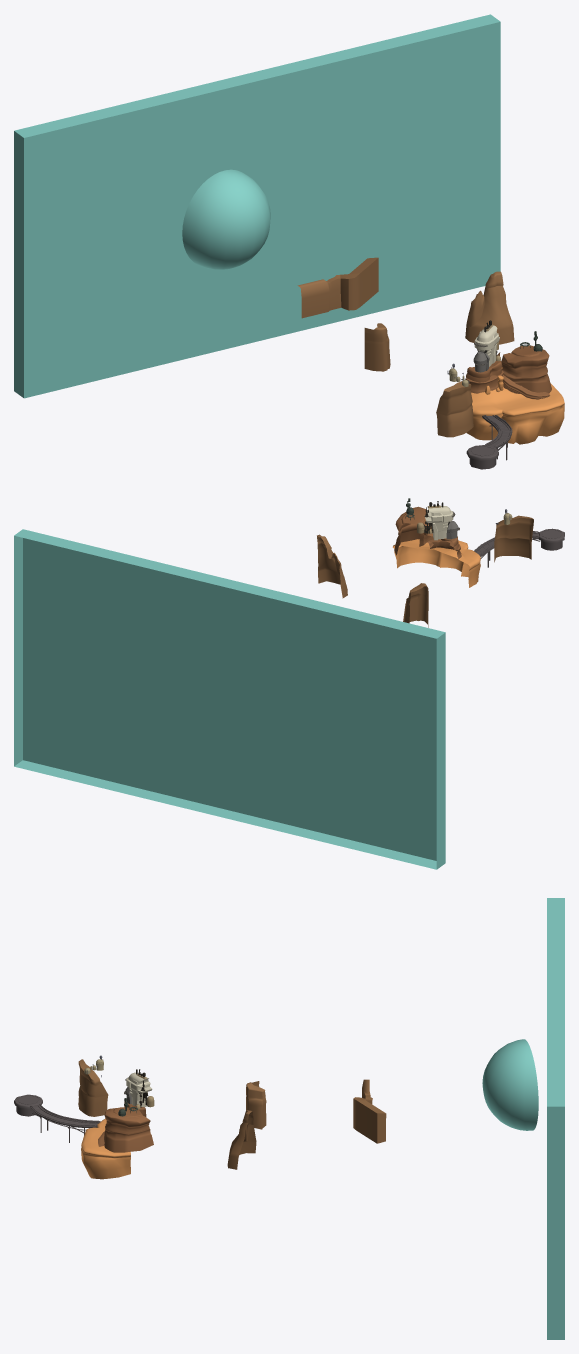
File: MidGround.fbx
The picture shows the model from 3 angles, top to bottom: view 1: azimuth 30°, elevation 25°; view 2: azimuth 150°, elevation 25°; view 3: azimuth 270°, elevation 25°; orthographic projection. The views are drawn at different scales.
Parts seen in each view (by area): view 1: Background, MGBase, FarMtnRidge, RMtnBack, RghtRockCollumn, LMtnMid, BackLMnt, RailPlatform, MainBuilding; view 2: Background, MGBase, LMtnMid, RMtnBack, BackLMnt, RghtRockCollumn, MainBuilding, RailPlatform; view 3: Background, RghtRockCollumn, MGBase, FarMtnRidge, LMtnMid, RMtnBack, BackLMnt, MainBuilding.
Part boxes in pixels (x1,y1,x2,y2): Background: (14,14,500,398); MGBase: (466,383,564,444); FarMtnRidge: (297,257,378,318); RMtnBack: (465,271,514,344); RghtRockCollumn: (501,345,551,393); LMtnMid: (436,381,473,437); BackLMnt: (364,323,390,371); RailPlatform: (466,445,498,469); MainBuilding: (474,325,499,366); Background: (14,529,445,869); MGBase: (392,539,480,587); LMtnMid: (494,515,533,562); RMtnBack: (317,534,347,598); BackLMnt: (403,583,428,627); RghtRockCollumn: (394,506,436,555); MainBuilding: (424,506,453,540); RailPlatform: (538,528,564,550); Background: (482,898,564,1339); RghtRockCollumn: (104,1106,153,1152); MGBase: (81,1118,130,1179); FarMtnRidge: (353,1079,386,1143); LMtnMid: (78,1059,108,1116); RMtnBack: (227,1110,256,1169); BackLMnt: (246,1081,266,1129); MainBuilding: (126,1072,152,1107).
Bounding box in the file's own units: 1330 × 694 × 1485.
